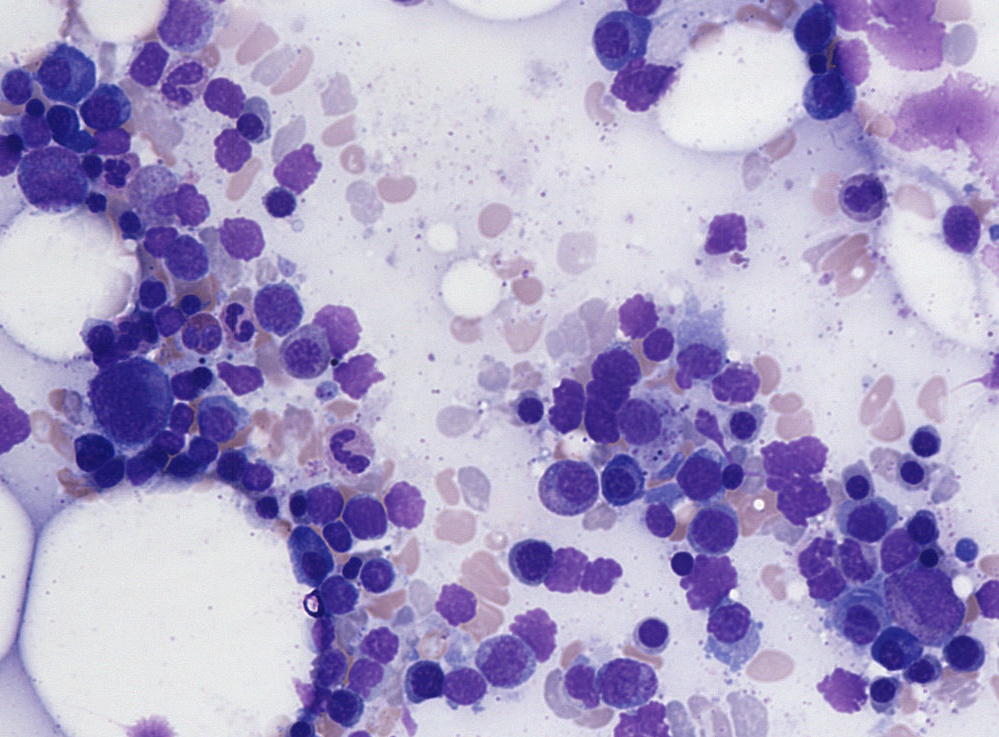objectness: (31, 45, 81, 95), (594, 456, 644, 506), (586, 15, 636, 65), (802, 63, 852, 113), (476, 634, 526, 684), (318, 426, 368, 476), (88, 144, 138, 194), (152, 53, 202, 103), (210, 299, 260, 349), (133, 172, 183, 222), (274, 331, 324, 381), (550, 454, 600, 504), (595, 653, 645, 703), (177, 304, 227, 354), (837, 173, 887, 223), (22, 153, 72, 203), (173, 349, 223, 399), (100, 196, 150, 246), (200, 68, 250, 118), (276, 143, 326, 193), (615, 56, 665, 106), (845, 495, 895, 545), (387, 478, 437, 528), (59, 426, 109, 476), (429, 579, 479, 629), (826, 528, 876, 578), (159, 360, 209, 410), (635, 319, 685, 369), (606, 287, 656, 337), (355, 549, 405, 599), (142, 295, 192, 345), (147, 419, 197, 469), (832, 599, 882, 649), (585, 339, 635, 389), (314, 304, 364, 354), (35, 93, 85, 143), (618, 393, 668, 443), (212, 211, 262, 261), (164, 181, 214, 231), (336, 658, 386, 708), (176, 421, 226, 471), (233, 449, 283, 499), (156, 440, 206, 490), (516, 606, 566, 656), (200, 438, 250, 488), (942, 524, 992, 574), (775, 473, 825, 523), (306, 643, 356, 693), (937, 198, 987, 248), (215, 356, 265, 406), (585, 368, 635, 418), (114, 448, 164, 498), (820, 665, 870, 715), (165, 277, 215, 327), (332, 351, 382, 401), (808, 557, 858, 607), (295, 605, 345, 655), (640, 493, 690, 543), (133, 216, 183, 266), (68, 179, 118, 229), (578, 552, 628, 602), (785, 526, 835, 576), (571, 397, 621, 447), (541, 545, 591, 595), (126, 267, 176, 317), (866, 520, 916, 570), (3, 102, 53, 152), (792, 38, 842, 88), (7, 80, 57, 130), (284, 539, 334, 589), (763, 426, 813, 476), (203, 120, 253, 170), (708, 453, 758, 503), (116, 37, 166, 87), (701, 603, 751, 653), (721, 358, 771, 408), (132, 431, 182, 481), (671, 335, 721, 385), (53, 115, 103, 165), (866, 627, 916, 677), (153, 397, 203, 447), (556, 659, 606, 709), (243, 483, 293, 533), (84, 447, 134, 497), (67, 137, 117, 187), (82, 116, 132, 166), (306, 573, 356, 623), (439, 662, 489, 712), (287, 673, 337, 723), (695, 205, 745, 255), (311, 510, 361, 560), (353, 615, 403, 665), (194, 397, 244, 447), (678, 400, 728, 450), (273, 481, 323, 531), (536, 387, 586, 437), (687, 557, 737, 607), (297, 474, 347, 524), (680, 505, 730, 555), (158, 229, 208, 279), (677, 449, 727, 499), (258, 283, 308, 333), (341, 489, 391, 539), (902, 415, 952, 465), (223, 97, 273, 147), (73, 312, 123, 362), (717, 399, 767, 449), (503, 381, 553, 431), (625, 607, 675, 657), (831, 458, 881, 508), (510, 532, 560, 582), (894, 645, 944, 695), (894, 498, 944, 548), (317, 676, 367, 726), (253, 176, 303, 226), (940, 627, 990, 677), (76, 85, 126, 135), (885, 444, 935, 494), (858, 668, 908, 718), (398, 656, 448, 706), (788, 1, 838, 51), (901, 573, 951, 623), (104, 374, 154, 424), (157, 0, 207, 45), (0, 59, 39, 109), (618, 702, 668, 737), (0, 130, 31, 180)
